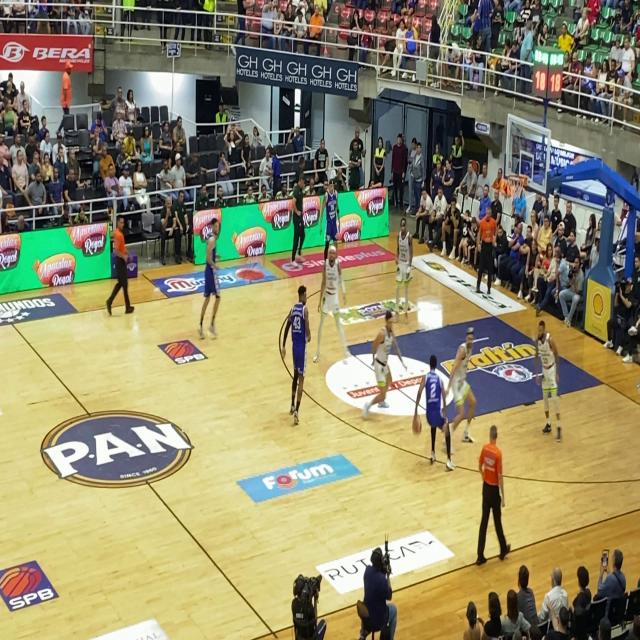Ball: (410, 414, 423, 438)
referee: (466, 411, 514, 568), (102, 210, 140, 322), (471, 200, 506, 306)
team1: (527, 307, 567, 444), (314, 232, 351, 372), (368, 304, 403, 441), (446, 328, 482, 448), (387, 215, 419, 311)
team2: (409, 345, 457, 478), (280, 276, 314, 432), (200, 218, 224, 345), (317, 170, 348, 260)
ubasket: (507, 172, 525, 204)
